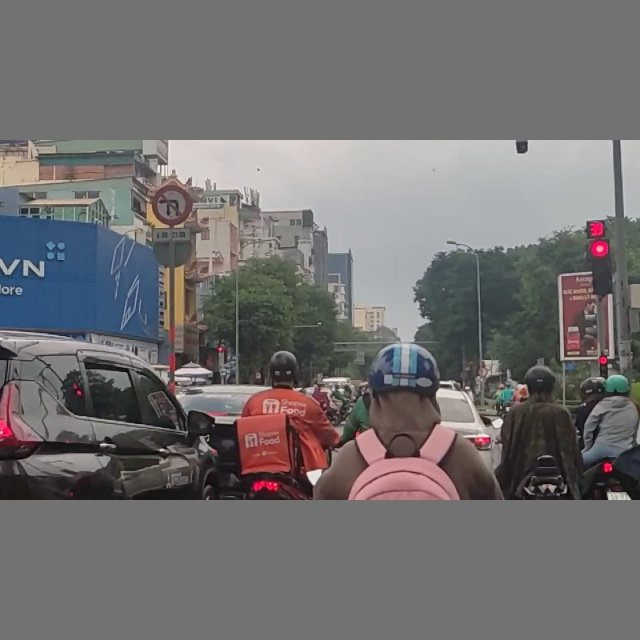P.124c: (149, 181, 193, 227)
